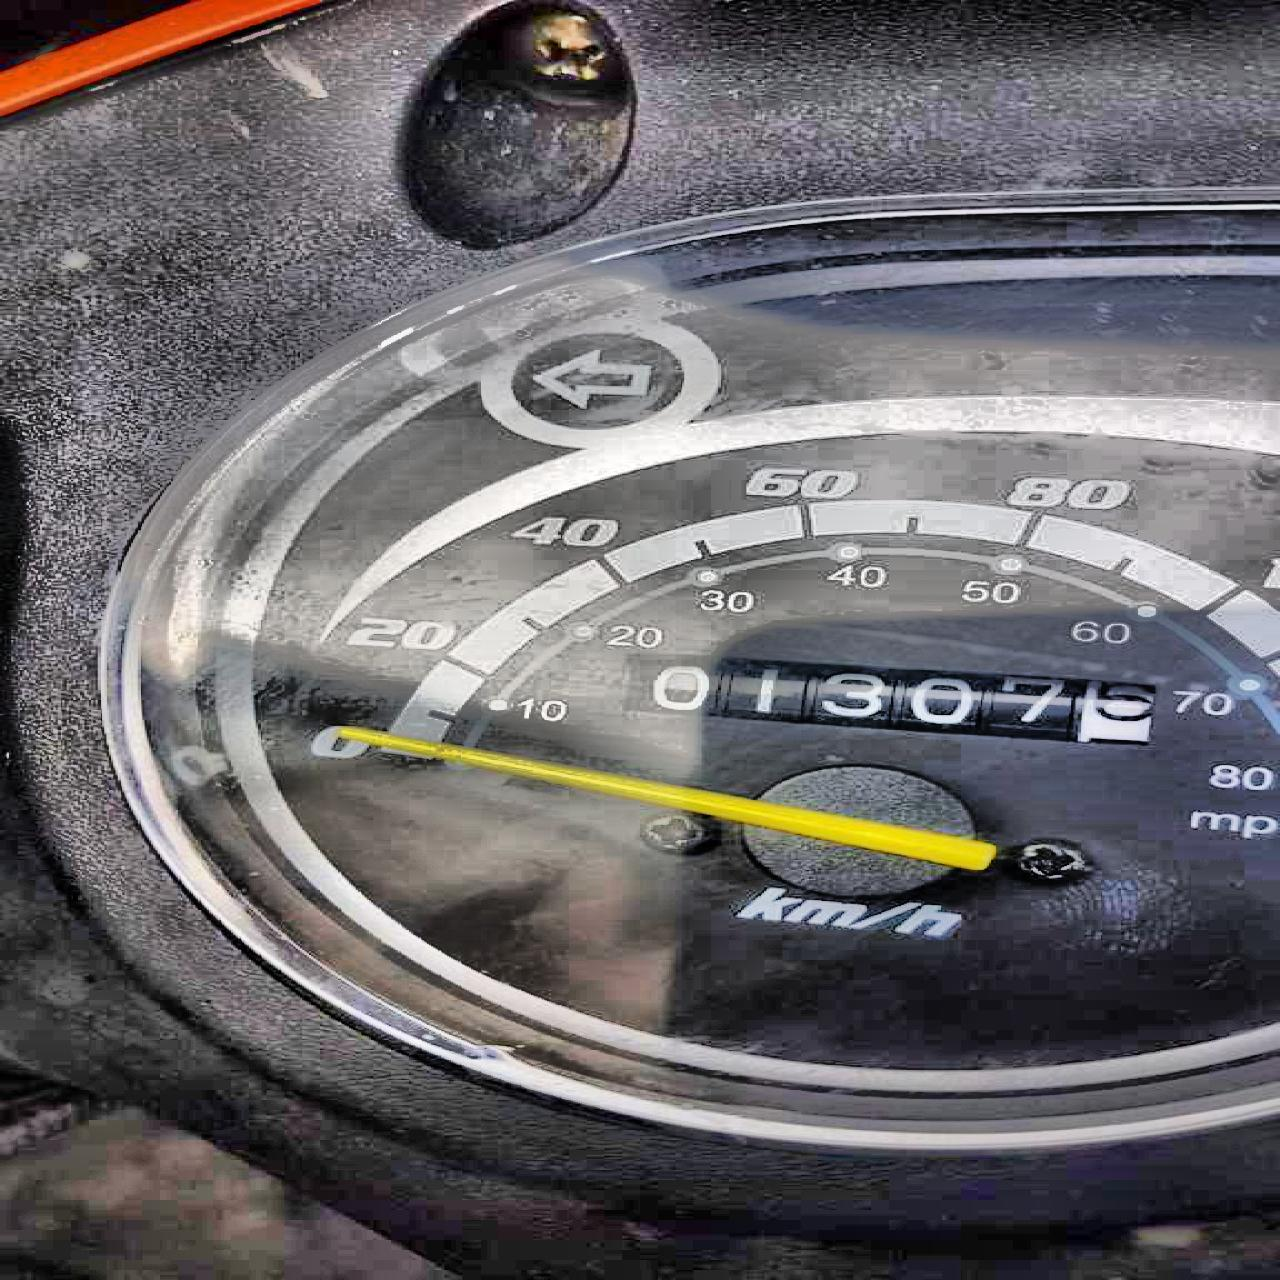0: (905, 674, 974, 727), (645, 662, 714, 713)
1: (742, 662, 789, 715)
3: (816, 666, 886, 719)
6: (1091, 676, 1158, 723)
7: (998, 670, 1069, 726)
odometer: (607, 645, 1163, 749)
